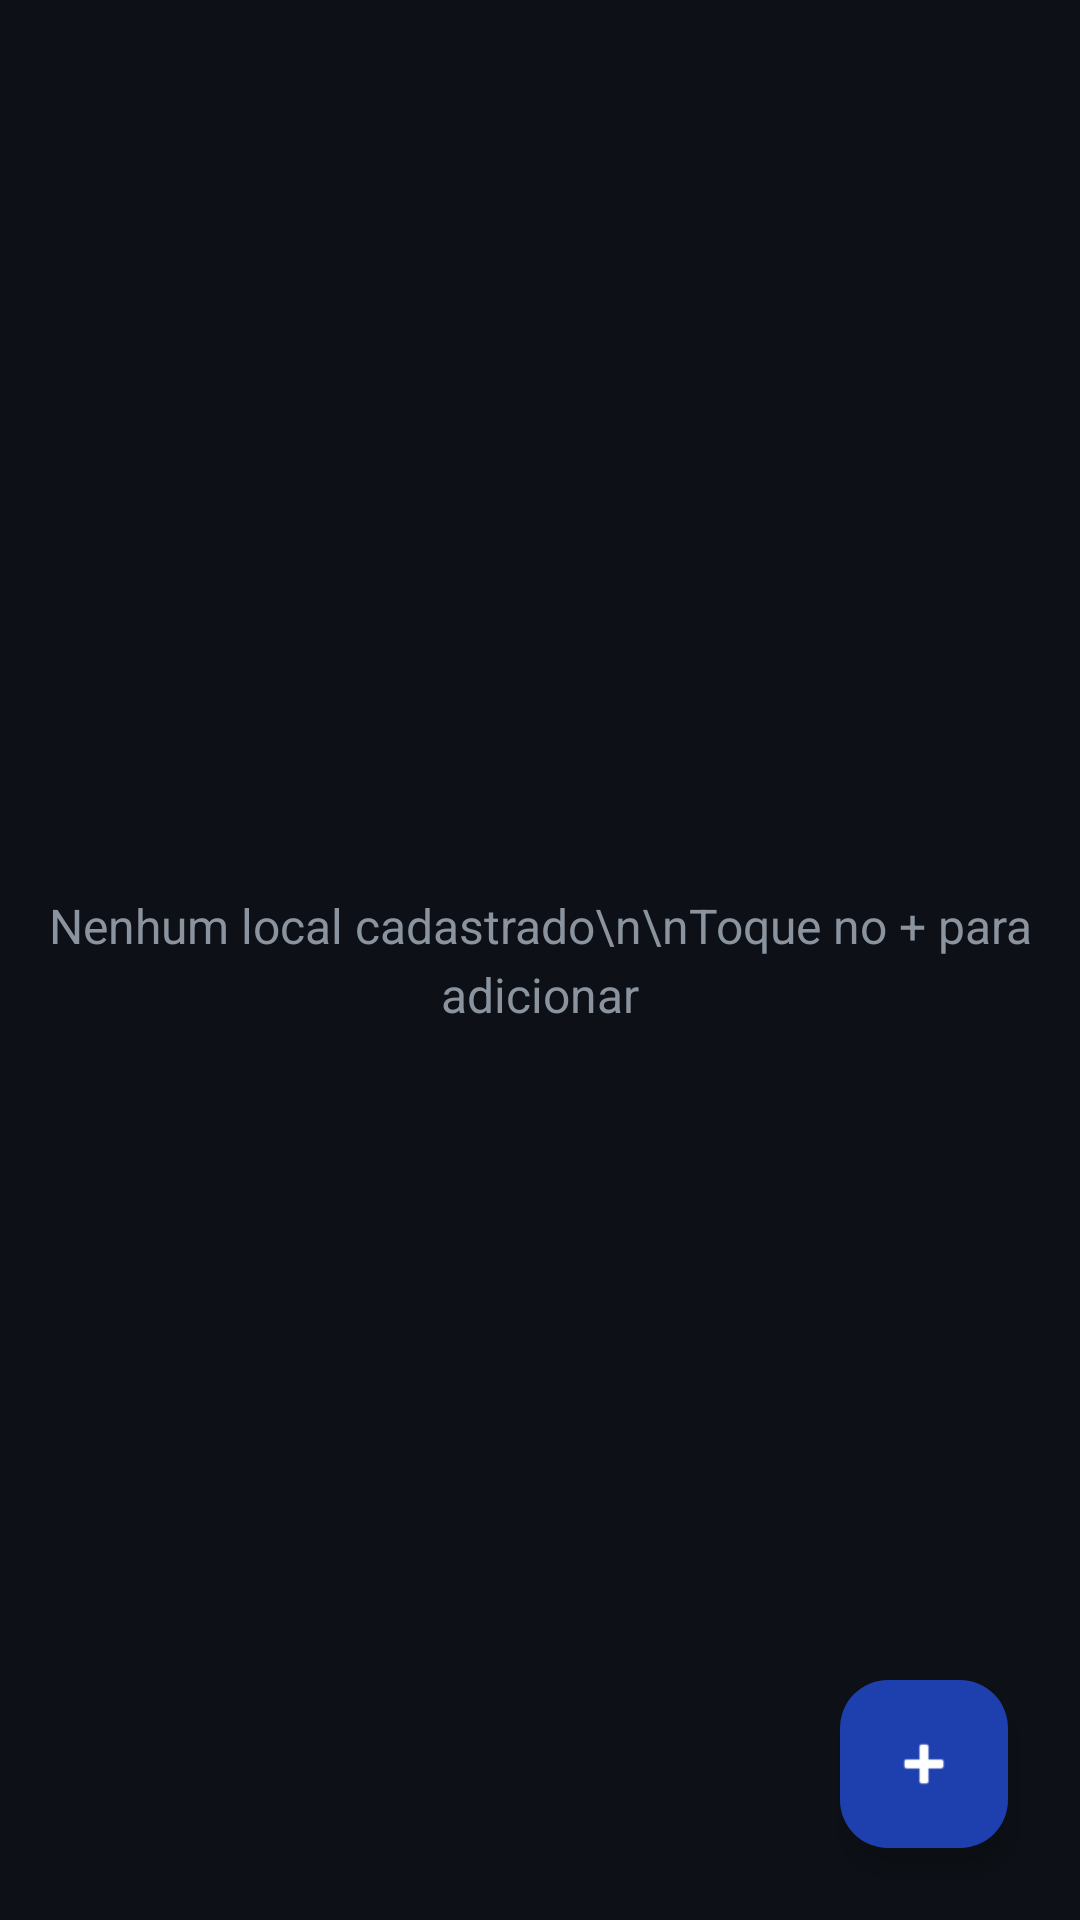

Icon bounding boxes for this 1080×1920 phone screenshot, format [left=x1, top=y1, right=x2, bottom=y2]:
Adicionar local: [left=840, top=1680, right=1008, bottom=1848]
